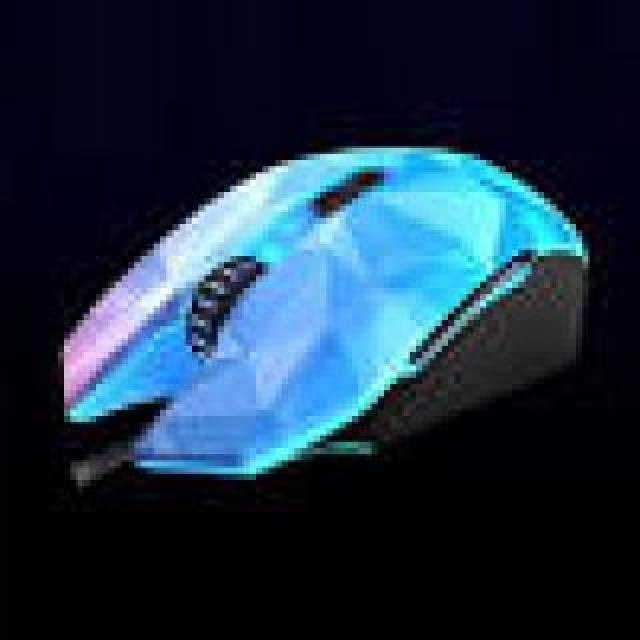mouse: (53, 145, 610, 543)
